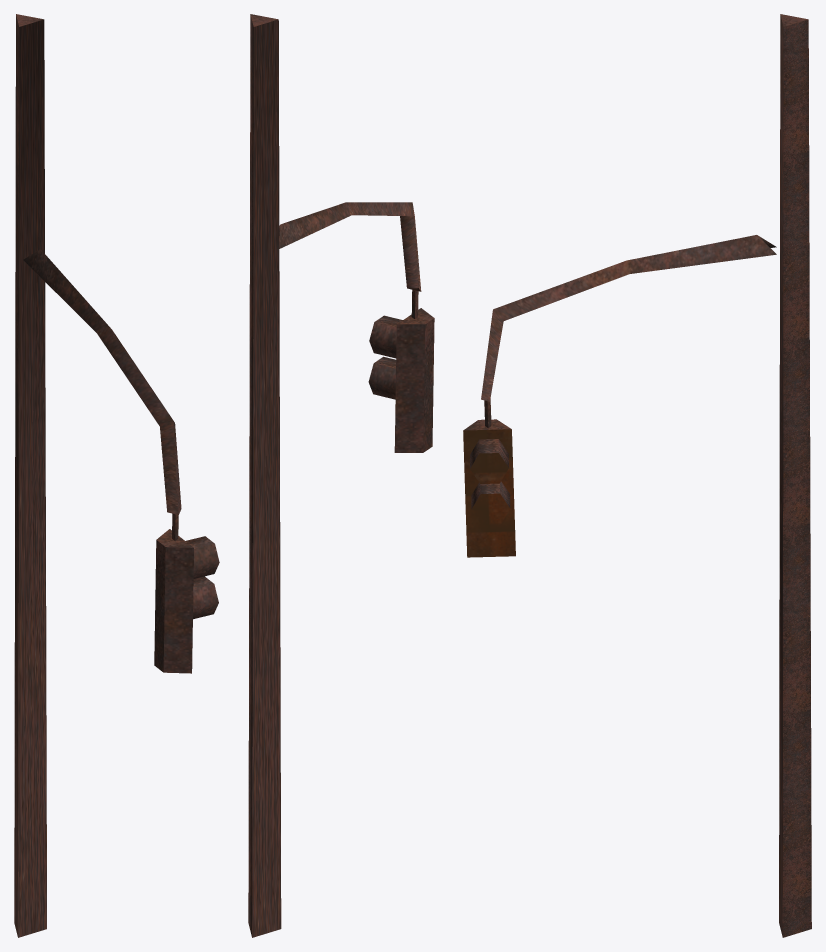
File: SM_Lamppost_trafficlight_broken.FBX
3 renders of one model, left to right at view 1: azimuth 30°, elevation 25°; view 2: azimuth 150°, elevation 25°; view 3: azimuth 270°, elevation 25°, orthographic.
Visible parts, largest first — view 1: SM_Lamppost_trafficlight; view 2: SM_Lamppost_trafficlight; view 3: SM_Lamppost_trafficlight.
Boxes of the visible parts, x1=… form: SM_Lamppost_trafficlight: x1=14, y1=14, x2=219, y2=937; SM_Lamppost_trafficlight: x1=248, y1=14, x2=434, y2=937; SM_Lamppost_trafficlight: x1=463, y1=14, x2=811, y2=937.
Bounding box in the file's own units: 18.73 × 113 × 326.
